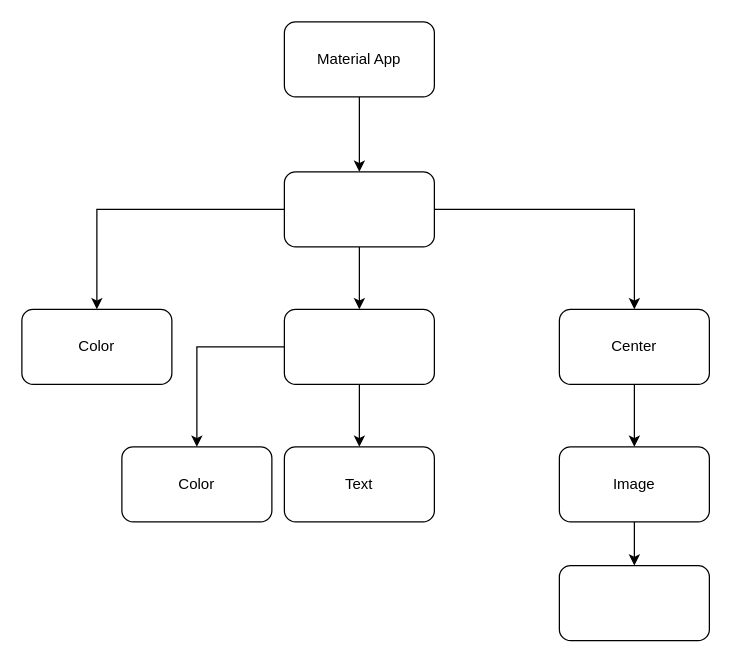
Image size: 731x663. Some labels were removed from this diagram. The centre of each missing label's shape, as x and y in pixels:
"AppBar" belongs at point (358, 346).
"NetworkingImage" belongs at point (633, 602).
"Scaffold" belongs at point (358, 209).
